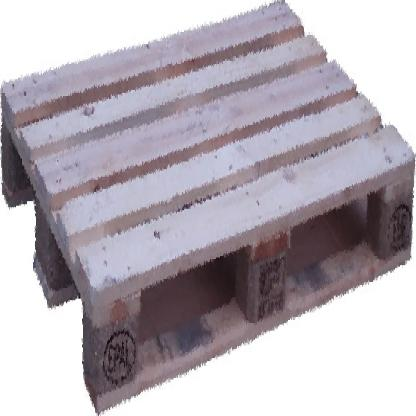BoxFace: (1, 0, 414, 416)
